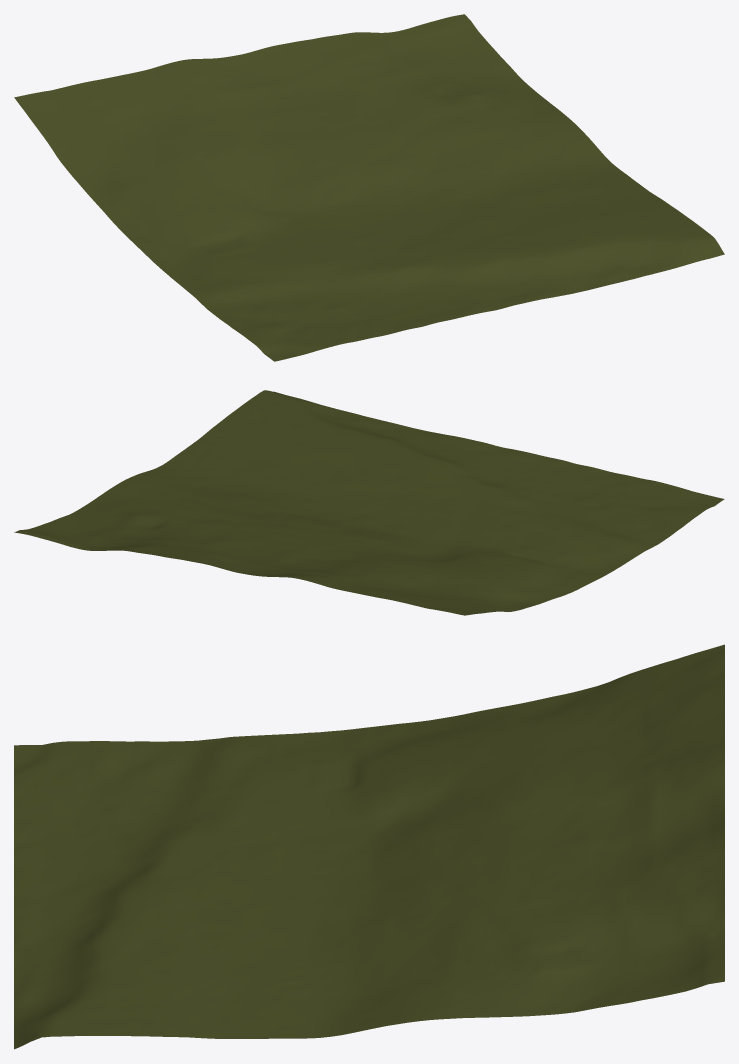
File: terrain_15_-11.glb
3 renders of one model, top to bottom at view 1: azimuth 30°, elevation 25°; view 2: azimuth 150°, elevation 25°; view 3: azimuth 270°, elevation 25°, orthographic. The views are drawn at different scales.
Visible parts, largest first — view 1: terrain_15_-11; view 2: terrain_15_-11; view 3: terrain_15_-11.
Boxes of the visible parts, x1,y1,x2,y2 form: terrain_15_-11: [14, 14, 724, 361]; terrain_15_-11: [14, 390, 724, 615]; terrain_15_-11: [14, 644, 724, 1049].
Bounding box in the file's own units: 256 × 42.86 × 256.
